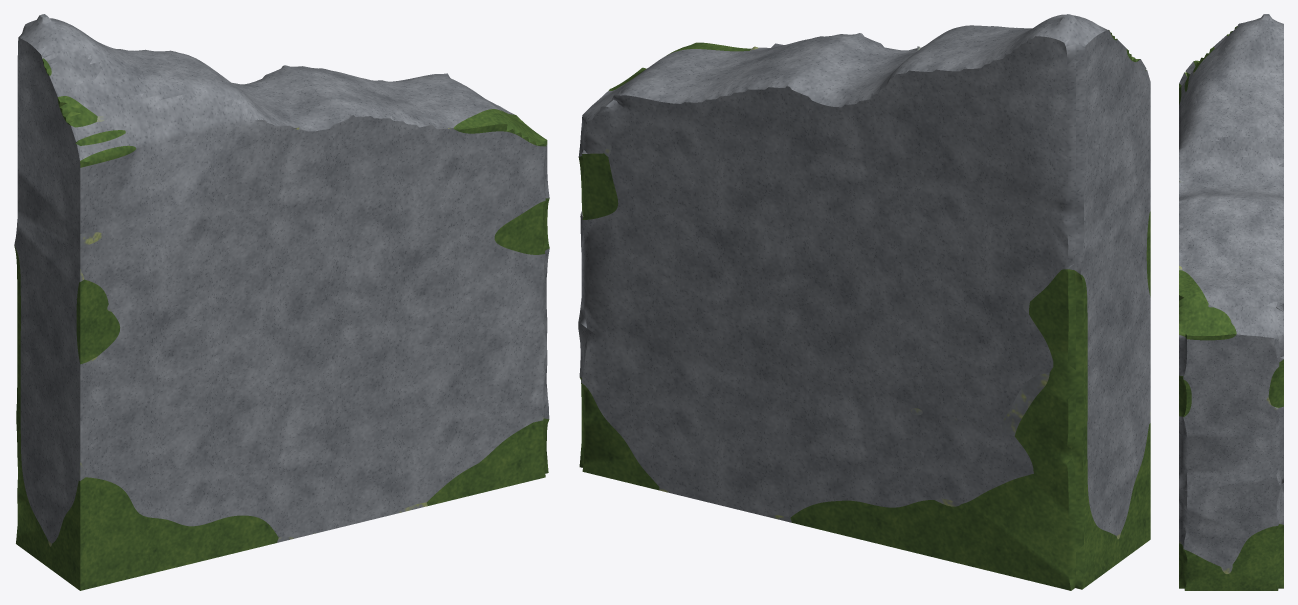
File: ruin_wall_tall.glb
3 views of the same model, side by side, from view 1: azimuth 30°, elevation 25°; view 2: azimuth 150°, elevation 25°; view 3: azimuth 270°, elevation 25° (orthographic). The views are drawn at different scales.
Visible parts, largest first — view 1: wilds_ruins_ruin_wall_tall; view 2: wilds_ruins_ruin_wall_tall; view 3: wilds_ruins_ruin_wall_tall.
Boxes of the visible parts, bbox=[...] form: wilds_ruins_ruin_wall_tall: bbox=[14, 14, 549, 590]; wilds_ruins_ruin_wall_tall: bbox=[578, 14, 1150, 590]; wilds_ruins_ruin_wall_tall: bbox=[1179, 14, 1283, 590].
Size of the model in its own units: 1.88 by 2.01 by 0.4688.
3 materials, 3 textured.
